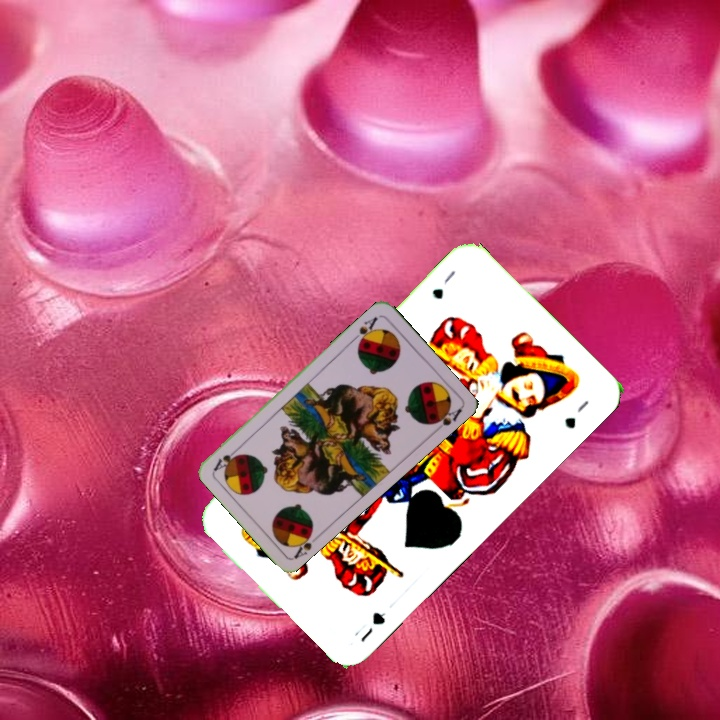GU: (350, 607, 389, 645), (427, 266, 459, 302)
SA: (348, 312, 380, 348), (288, 524, 316, 562)
